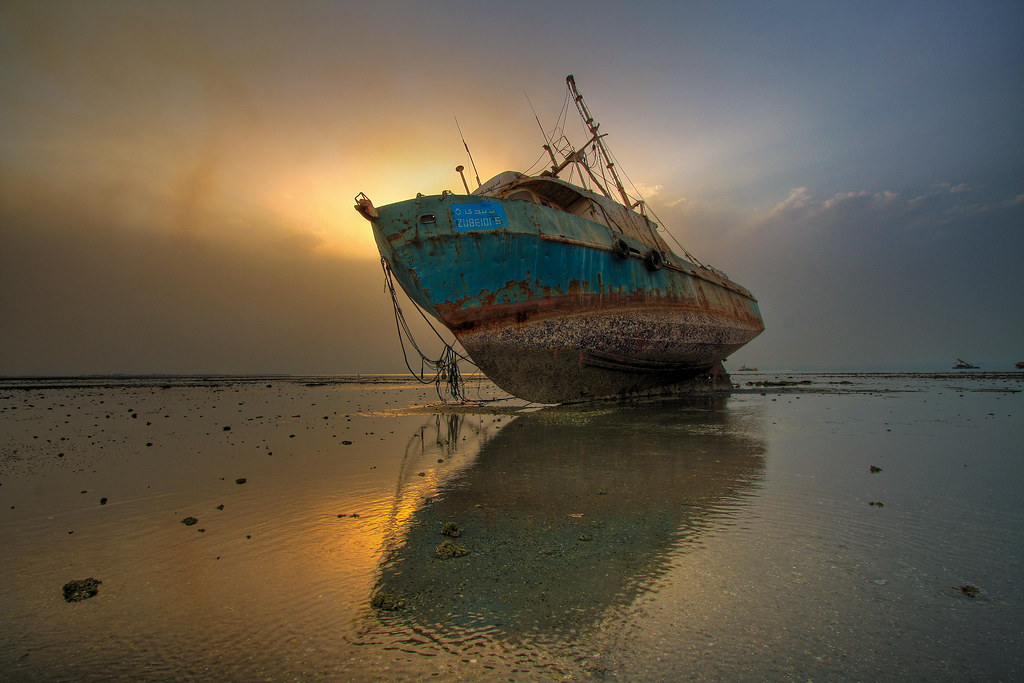rust: (668, 269, 767, 324), (455, 309, 539, 332), (563, 292, 645, 308)
